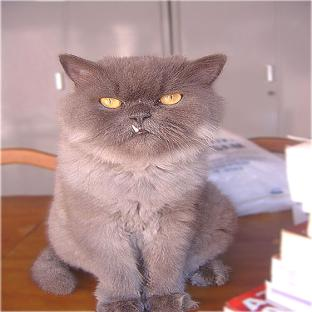Animal: (32, 54, 237, 311)
